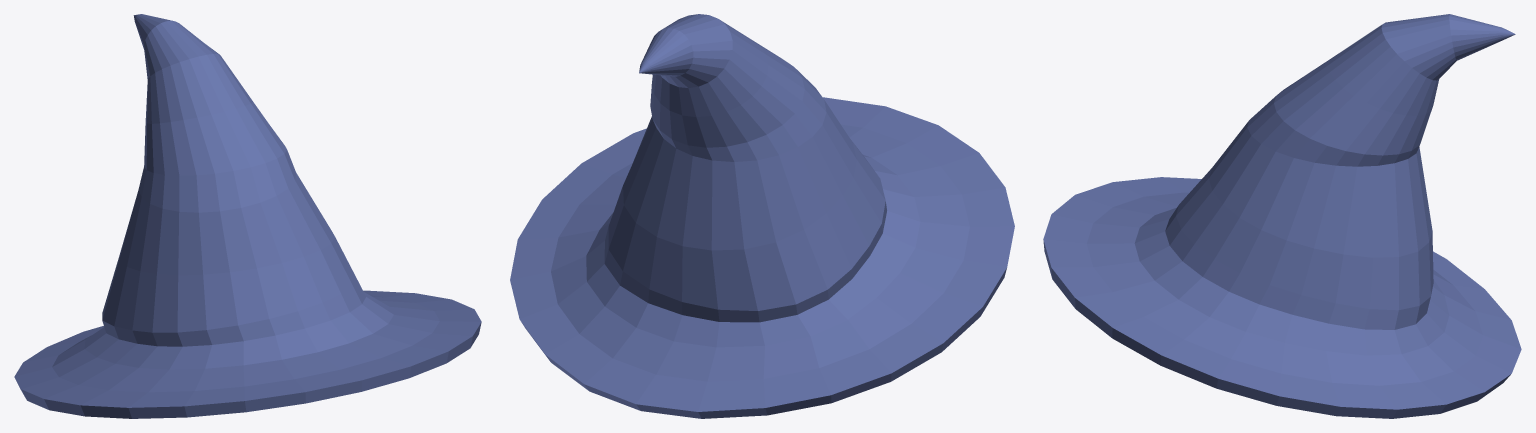
Rendered from Hat_Wizard.fbx.
3 renders of one model, left to right at view 1: azimuth 30°, elevation 25°; view 2: azimuth 150°, elevation 25°; view 3: azimuth 270°, elevation 25°, orthographic. The views are drawn at different scales.
Visible parts, largest first — view 1: Hat_Wizard; view 2: Hat_Wizard; view 3: Hat_Wizard.
Part boxes in pixels (x1,y1,x2,y2): Hat_Wizard: (14, 14, 481, 418); Hat_Wizard: (510, 14, 1014, 418); Hat_Wizard: (1043, 14, 1521, 418).
Size of the model in its own units: 3.75 by 2.92 by 3.68.
